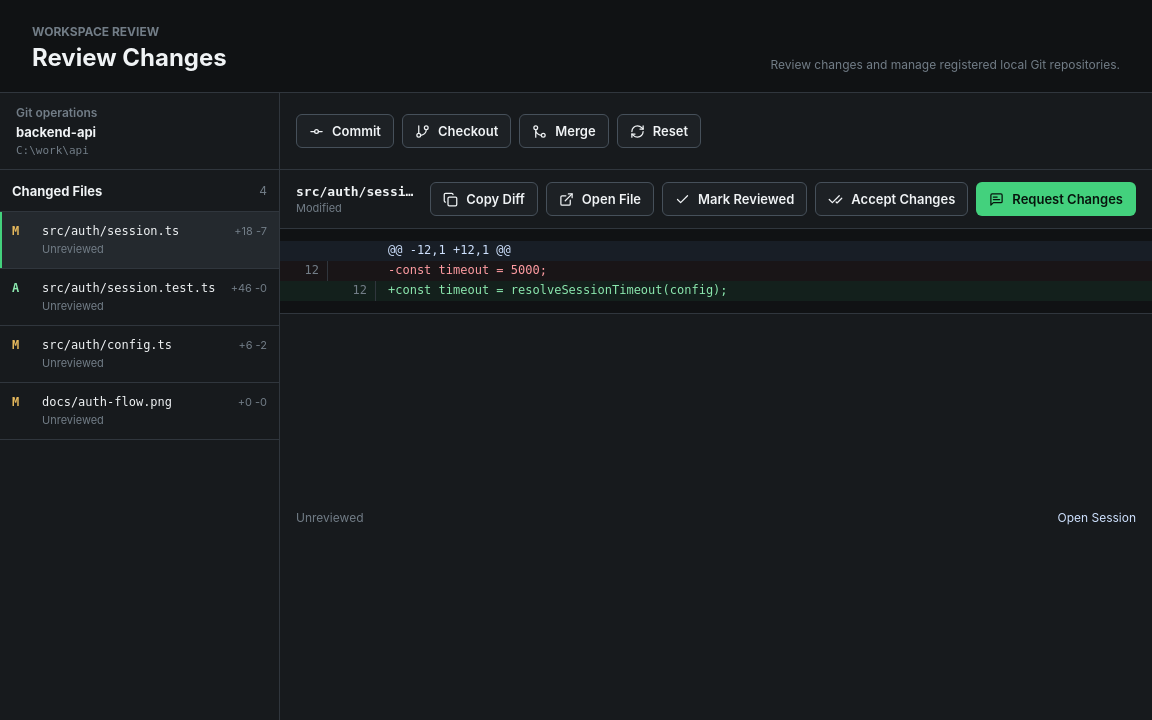
Test case: ChangesPage › does not reset when the hard-reset confirmation is cancelled
The image size is (1152, 720).
Click the button "Reset".
click(659, 131)  # box left=617, top=114, right=701, bottom=148
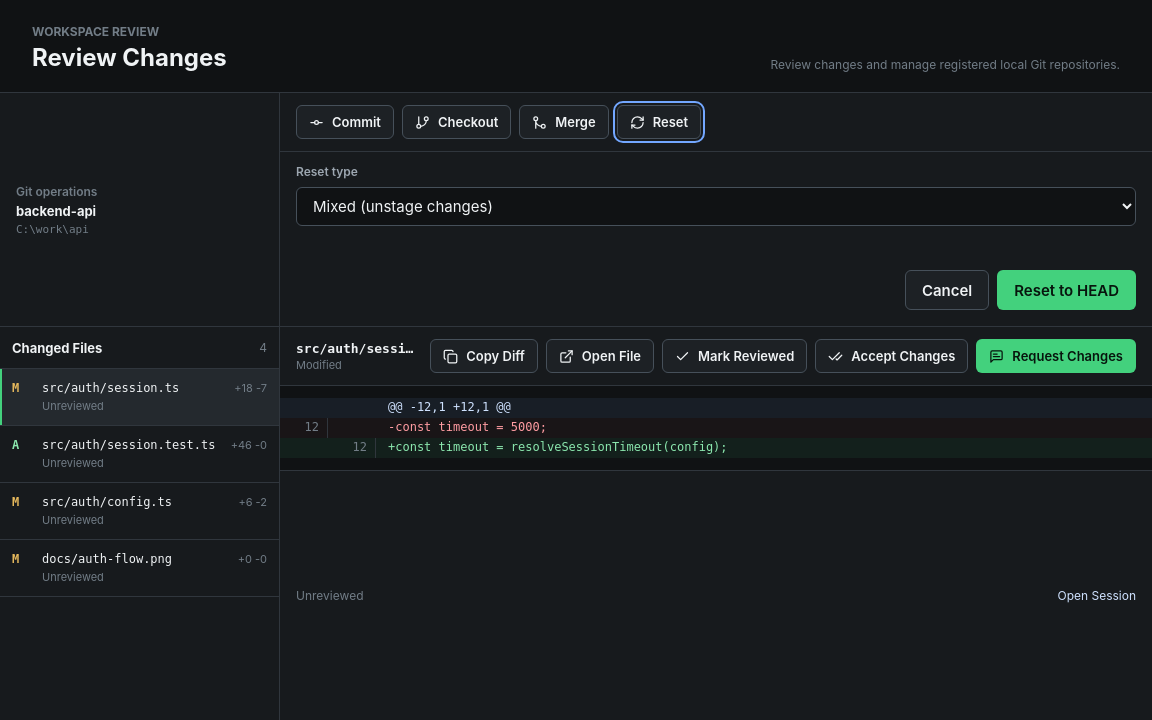
Select "Hard (discard all changes)" in the dropdown labelled "Reset type" at (716, 206), box left=296, top=187, right=1136, bottom=226
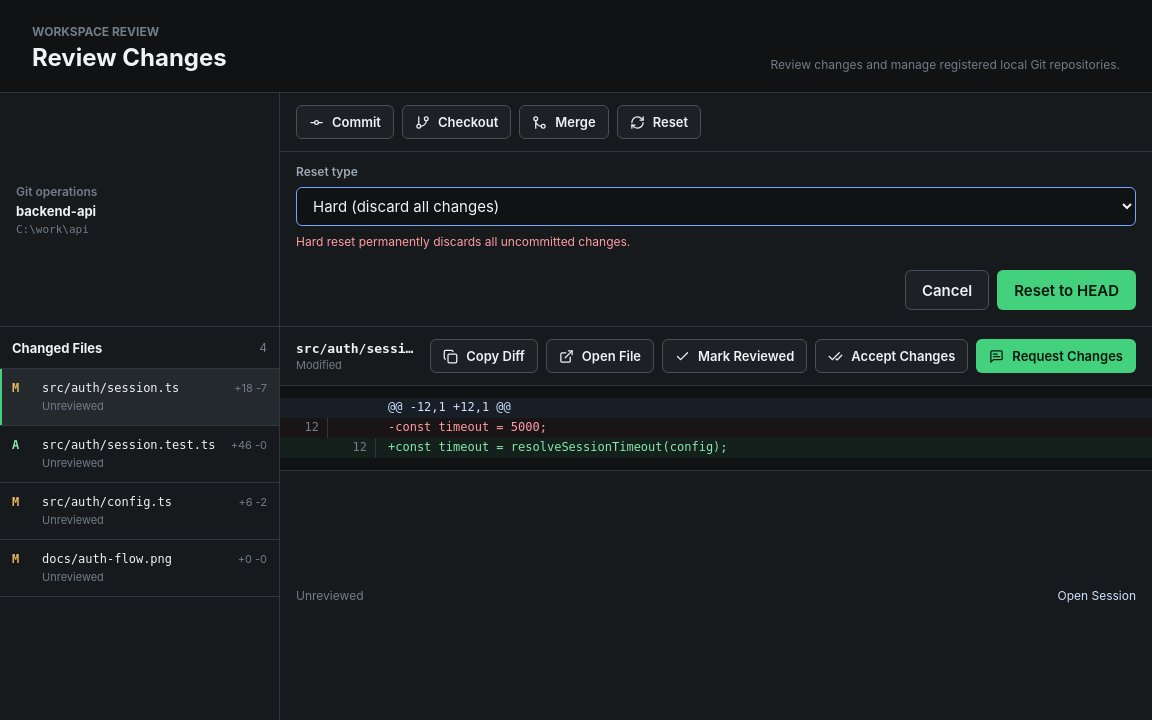
Click the button "Reset to HEAD".
click(1067, 290)  # box left=997, top=270, right=1136, bottom=310
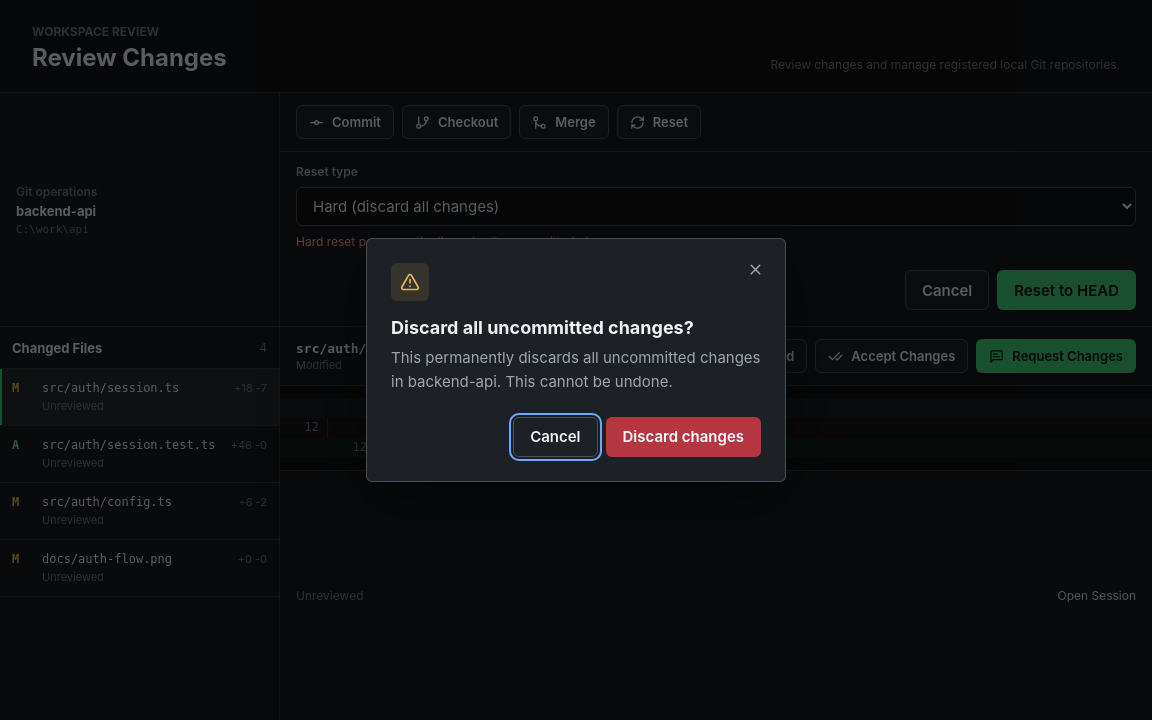
Click the button "Cancel".
click(555, 437)  # box left=513, top=417, right=598, bottom=457
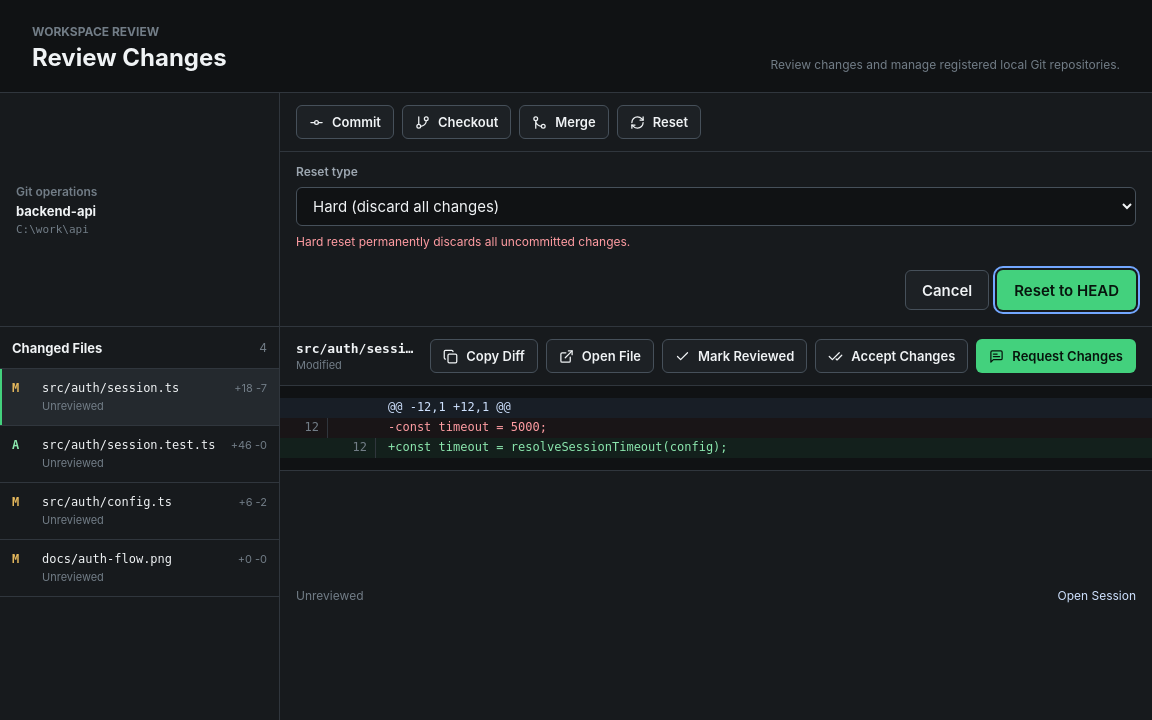
expect the dialog is gone: met
